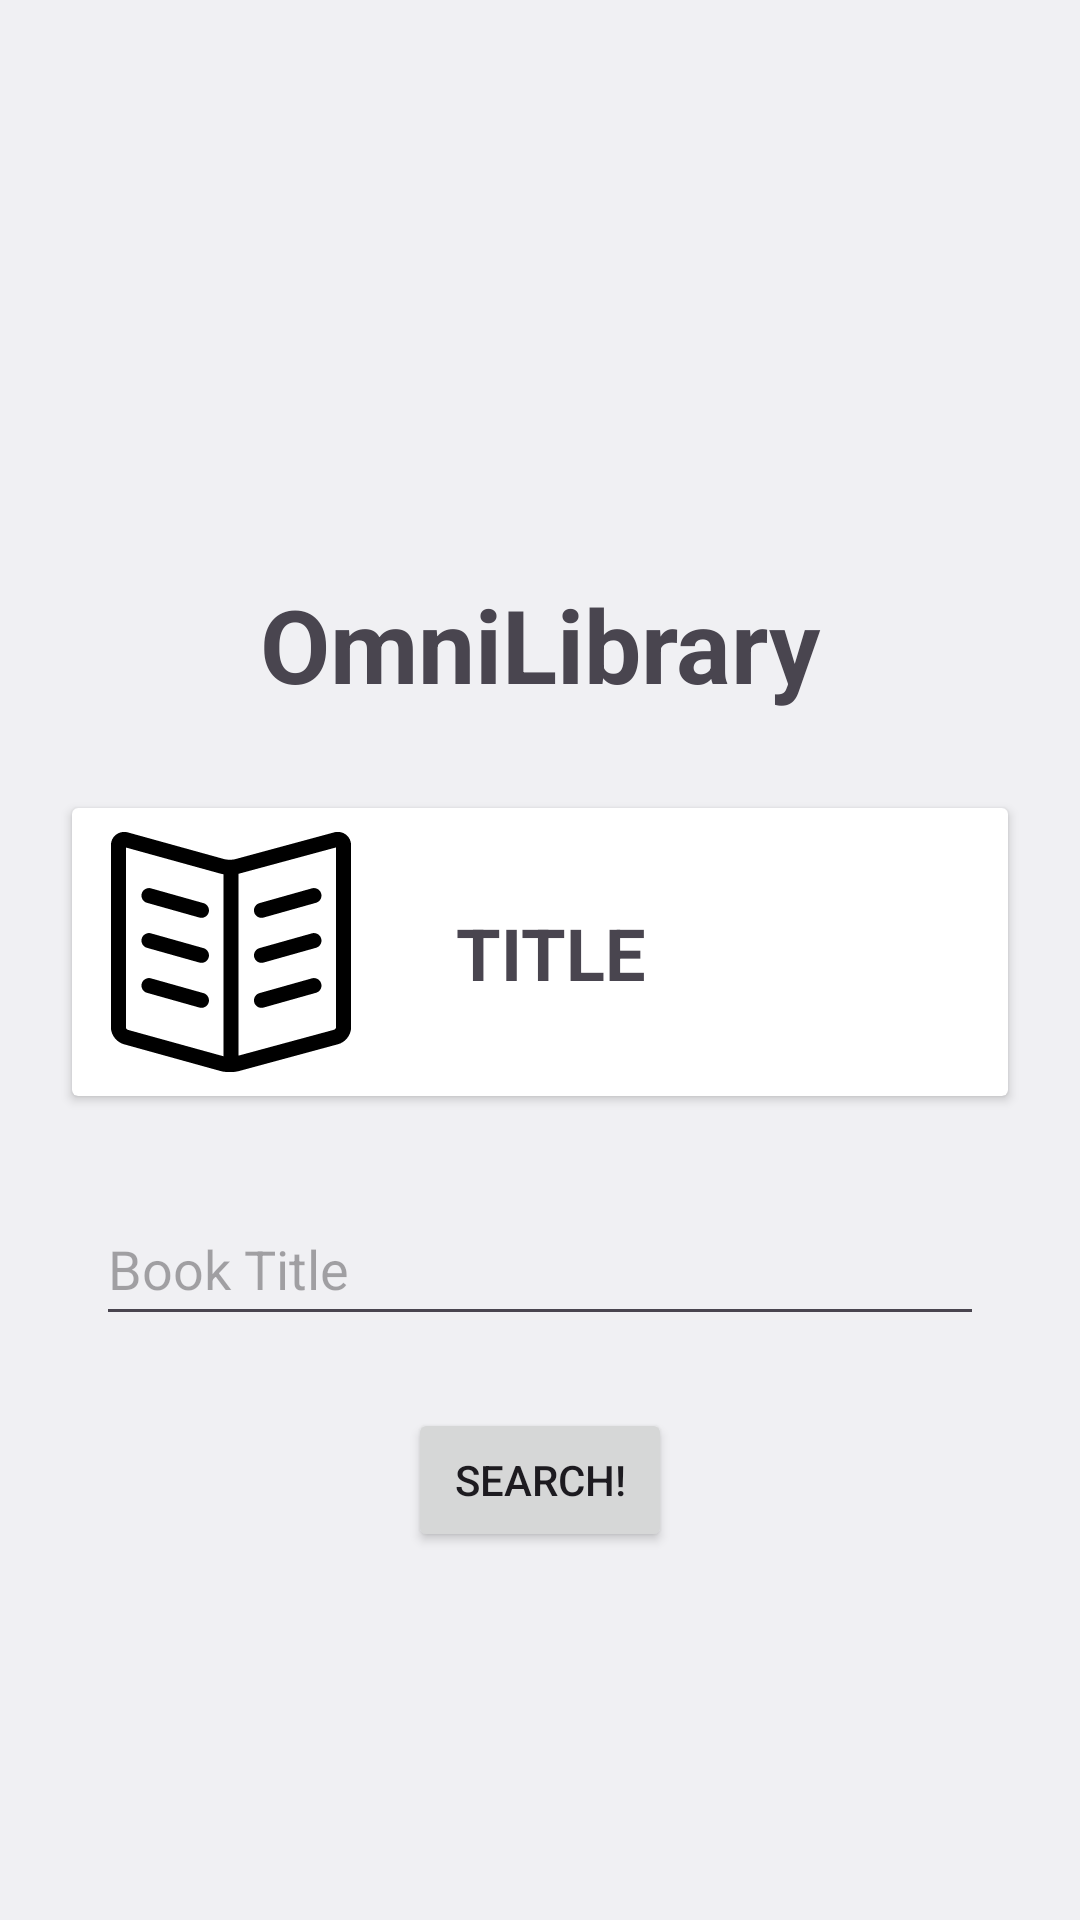

Screen size 1080 x 1920. Icon name, then its center in pixels as [x,y]:
book open: [231,952]
